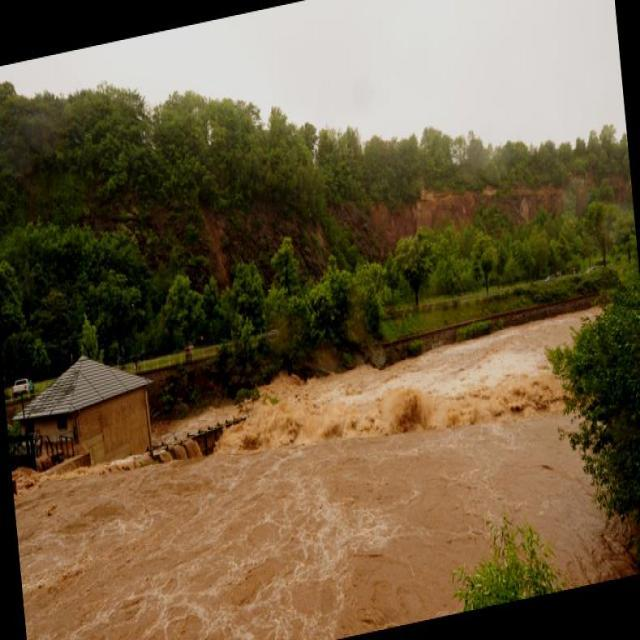flood: (8, 315, 613, 639)
